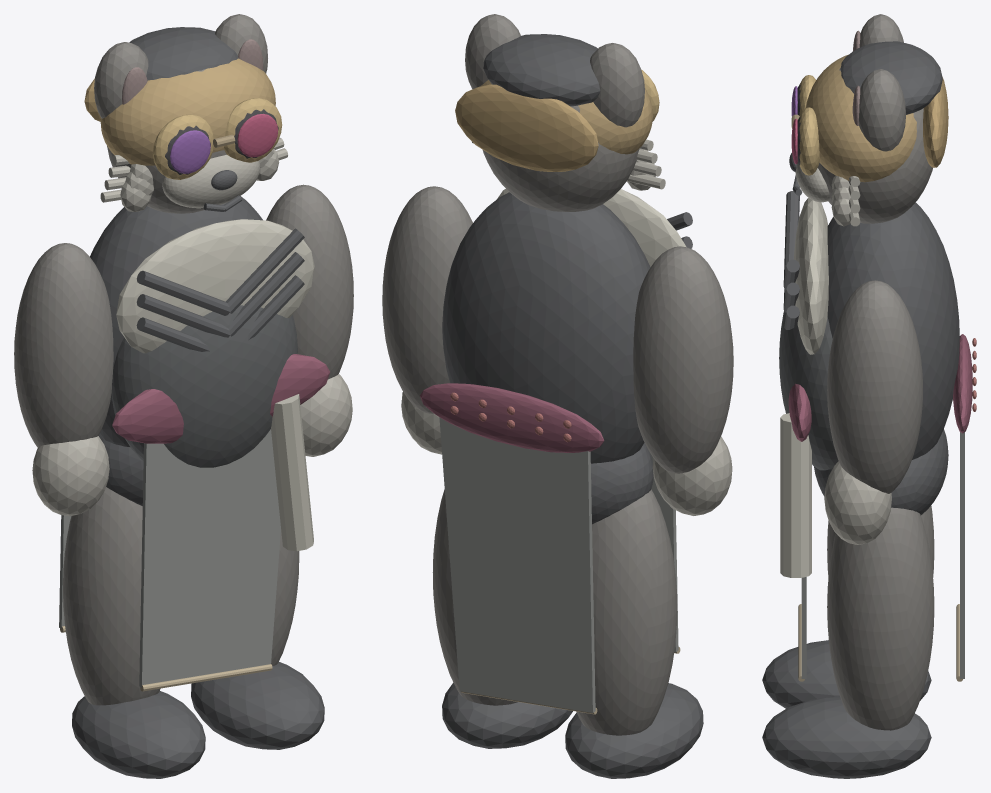
File: profound_prototype (2).glb
3 views of the same model, side by side, from view 1: azimuth 30°, elevation 25°; view 2: azimuth 150°, elevation 25°; view 3: azimuth 270°, elevation 25° (orthographic). The views are drawn at different scales.
Parts seen in each view (by area): view 1: front_skirt_047, belly_clothing_003, arm_-1_006, leg_-1_004, white_chest_041, arm_1_012, paw_-1_005, helmet_shell_062, paw_1_011, torso_001, burgundy_sash_045, hand_-1_007 (+20 smaller); view 2: torso_001, rear_skirt_049, arm_-1_006, leg_-1_004, arm_1_012, helmet_back_panel_069, rear_sash_051, paw_-1_005, dark_crown_032, head_016, paw_1_011, hand_-1_007 (+8 smaller); view 3: leg_1_010, arm_1_012, torso_001, paw_1_011, helmet_shell_062, sash_end_046, belly_clothing_003, white_chest_041, dark_crown_032, head_016, hand_1_013, paw_-1_005 (+13 smaller).
Boxes of the visible parts, x1,y1,x2,y2 form: front_skirt_047: [139, 429, 280, 687]; belly_clothing_003: [111, 305, 297, 467]; arm_-1_006: [14, 243, 113, 447]; leg_-1_004: [63, 487, 160, 705]; white_chest_041: [116, 219, 314, 353]; arm_1_012: [266, 184, 353, 379]; paw_-1_005: [72, 691, 205, 778]; helmet_shell_062: [100, 58, 275, 165]; paw_1_011: [191, 662, 324, 749]; torso_001: [90, 196, 262, 446]; burgundy_sash_045: [112, 354, 330, 443]; hand_-1_007: [32, 436, 109, 516]; torso_001: [442, 192, 650, 463]; rear_skirt_049: [439, 417, 595, 712]; arm_-1_006: [633, 246, 733, 473]; leg_-1_004: [576, 489, 677, 735]; arm_1_012: [382, 186, 472, 413]; helmet_back_panel_069: [455, 84, 598, 171]; rear_sash_051: [420, 383, 604, 452]; paw_-1_005: [565, 683, 703, 778]; dark_crown_032: [483, 34, 600, 106]; head_016: [482, 105, 639, 211]; paw_1_011: [442, 682, 572, 748]; hand_-1_007: [652, 436, 732, 515]; leg_1_010: [827, 507, 934, 730]; arm_1_012: [827, 280, 922, 493]; torso_001: [827, 202, 959, 459]; paw_1_011: [762, 696, 931, 778]; helmet_shell_062: [806, 54, 916, 182]; sash_end_046: [780, 413, 811, 577]; belly_clothing_003: [779, 311, 838, 470]; white_chest_041: [794, 198, 828, 354]; dark_crown_032: [840, 41, 942, 114]; head_016: [817, 67, 932, 223]; hand_1_013: [824, 461, 891, 544]; paw_-1_005: [762, 640, 931, 708].
Size of the model in its own units: 0.66 by 1.37 by 0.38.
